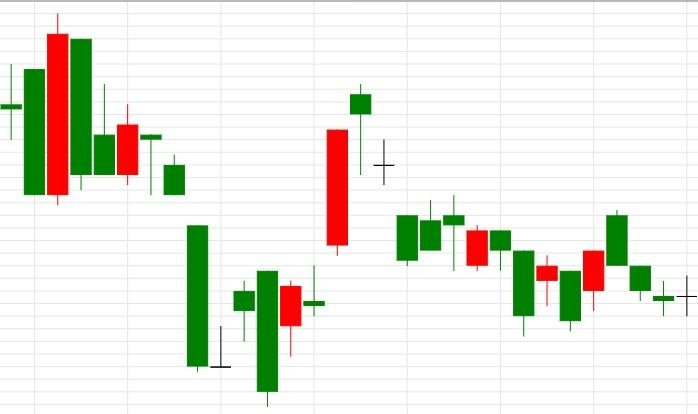hanging_man_fall: (280, 84, 371, 356)
